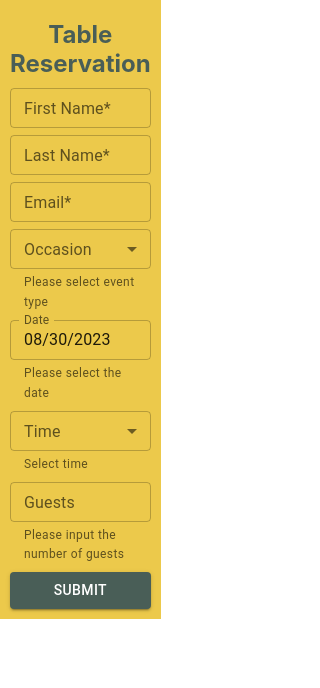
Test case: Form submission with empty inputs
This screenshot has width=320, height=688.
Click the button "Submit". click: (80, 591)
box: [10,572,151,609]
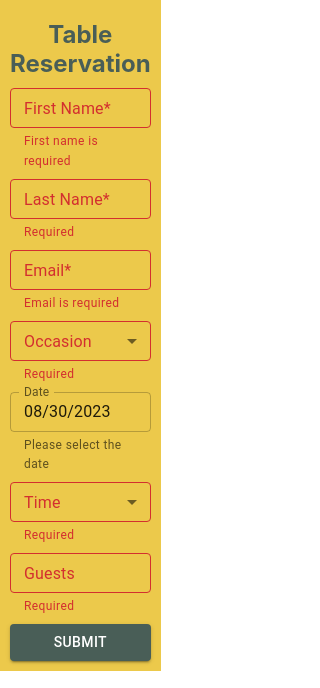
Expected: the text "First name is required" is shown, [24,134,98,168]
Expected: the text "Email is required" is shown, [24,296,119,310]
